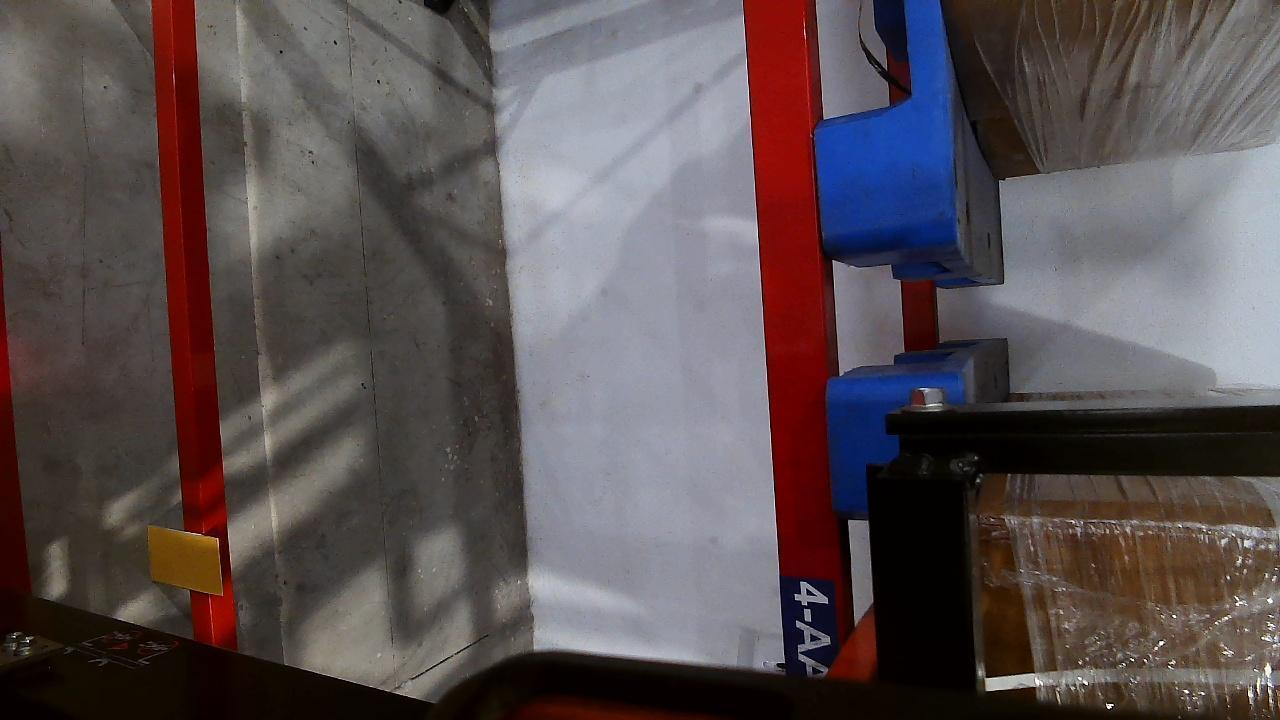red_line: (0, 235, 32, 599)
